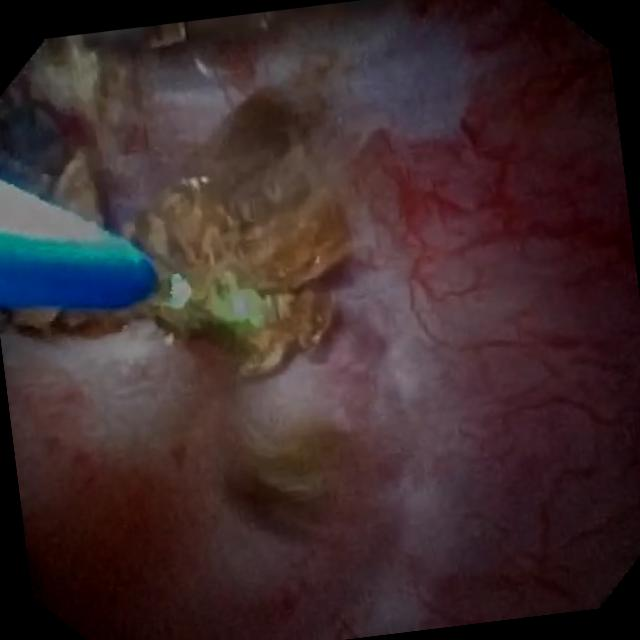laser-fibre: (144, 261, 187, 306)
laser_dot: (211, 289, 267, 325)
stone-new: (128, 89, 347, 373), (232, 428, 346, 525), (29, 34, 124, 122), (53, 150, 100, 224), (7, 310, 125, 334), (145, 21, 185, 46)
